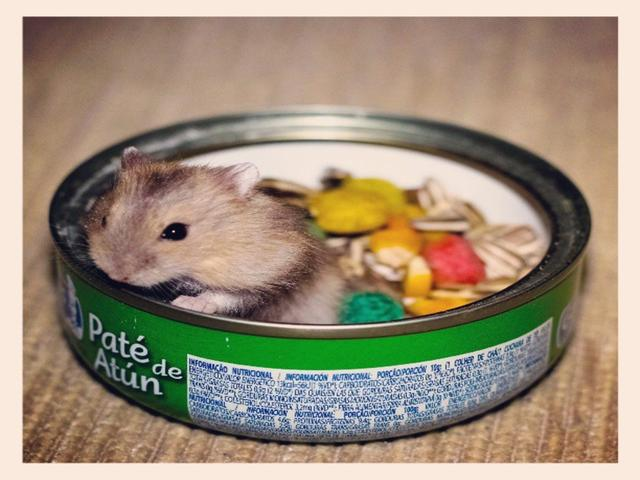mouse: (81, 123, 353, 401)
